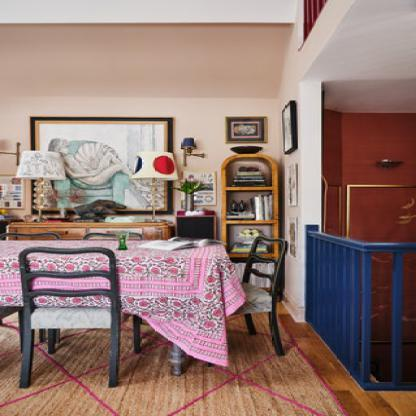chair: (8, 243, 134, 391), (240, 234, 302, 360)
light: (10, 149, 66, 224), (129, 147, 179, 225)
table: (0, 239, 233, 381)
